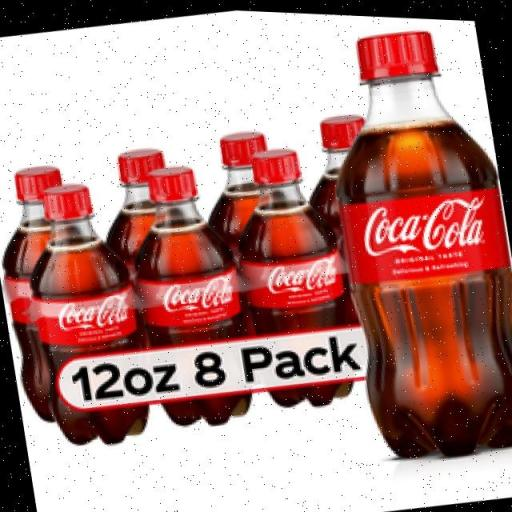plastic: (0, 1, 512, 512), (309, 12, 512, 465), (12, 171, 160, 454), (218, 136, 363, 414), (116, 155, 260, 432)
